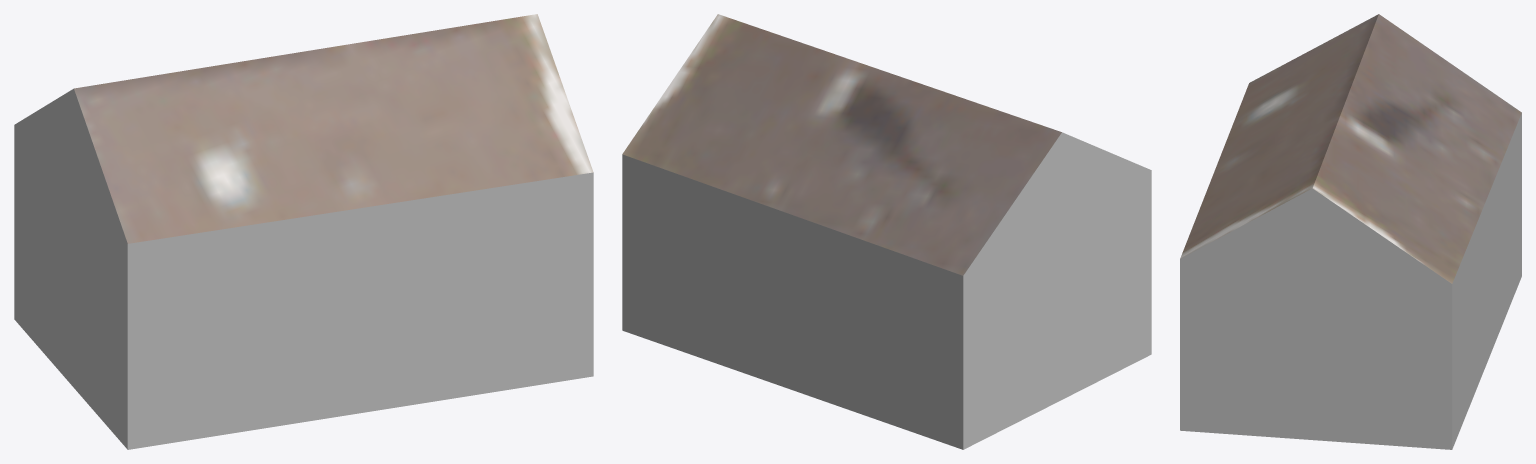
File: DEBW_0010007Tx6e.gltf
The picture shows the model from 3 angles, left to right: view 1: azimuth 30°, elevation 25°; view 2: azimuth 150°, elevation 25°; view 3: azimuth 270°, elevation 25°; orthographic projection. The views are drawn at different scales.
Parts seen in each view (by area): view 1: Z_UP; view 2: Z_UP; view 3: Z_UP.
Boxes of the visible parts, box(x1,y1,x2,y2) form: Z_UP: box(14, 14, 593, 449); Z_UP: box(622, 14, 1151, 449); Z_UP: box(1180, 14, 1521, 449).
Bounding box in the file's own units: 15.5 × 9.4 × 11.57.
Materials: 2 (1 with a texture image).
